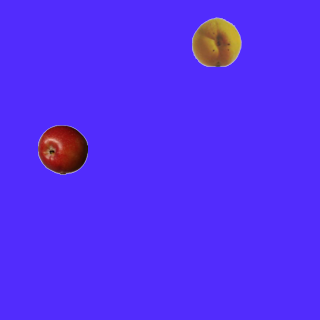Apple Braeburn: (37, 124, 87, 174)
Peach 2: (191, 16, 241, 66)
